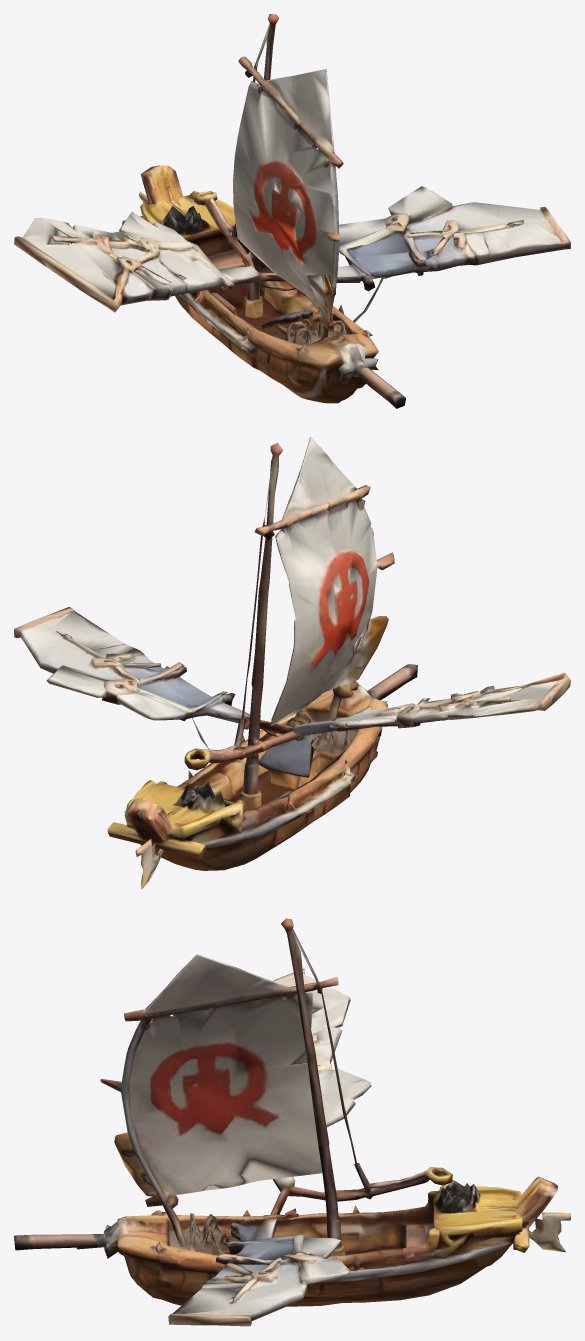
File: y_warboat.glb
3 renders of one model, top to bottom at view 1: azimuth 30°, elevation 25°; view 2: azimuth 150°, elevation 25°; view 3: azimuth 270°, elevation 25°, orthographic. The views are drawn at different scales.
Visible parts, largest first — view 1: tripo_node_0d64aec6-7687-40c4-a126-356dd7726449; view 2: tripo_node_0d64aec6-7687-40c4-a126-356dd7726449; view 3: tripo_node_0d64aec6-7687-40c4-a126-356dd7726449.
Part boxes in pixels (left/top/right/bottom): tripo_node_0d64aec6-7687-40c4-a126-356dd7726449: left=14, top=14, right=570, bottom=408; tripo_node_0d64aec6-7687-40c4-a126-356dd7726449: left=14, top=437, right=570, bottom=889; tripo_node_0d64aec6-7687-40c4-a126-356dd7726449: left=14, top=918, right=570, bottom=1326.
Bounding box in the file's own units: 0.9788 × 0.646 × 0.8575.
1 material, 1 textured.
